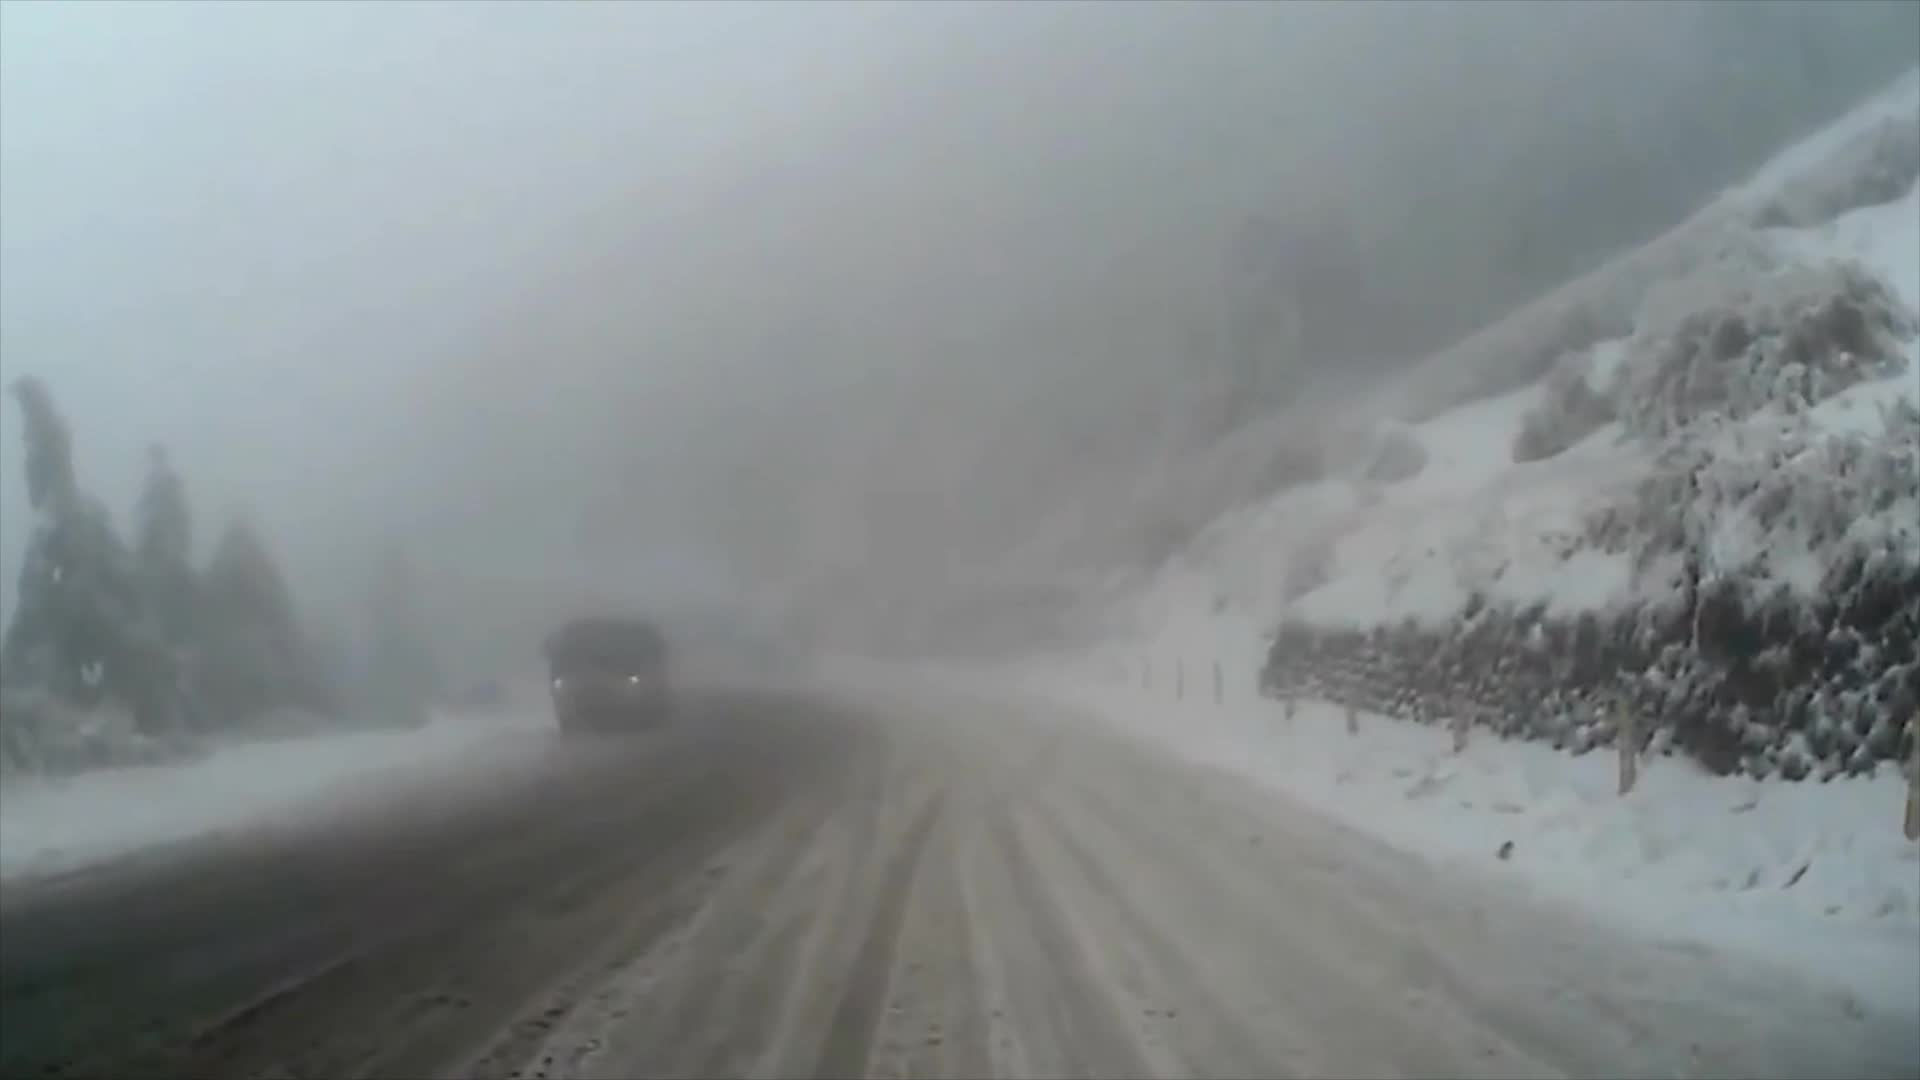vehicle: (543, 615, 676, 736)
